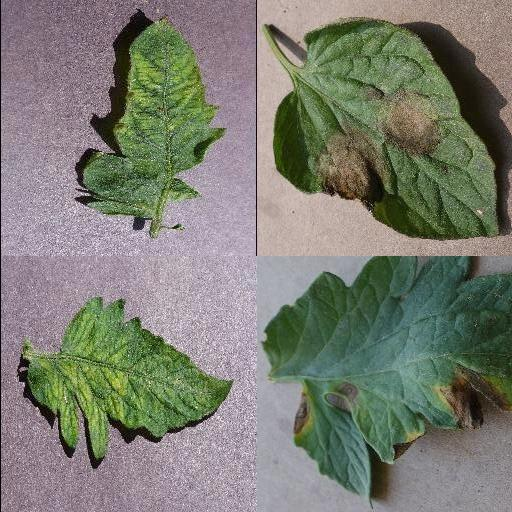Early Blight: (261, 256, 512, 508)
Late Blight: (273, 9, 501, 241)
Mosaic Virus: (24, 294, 234, 460), (82, 14, 228, 222)
